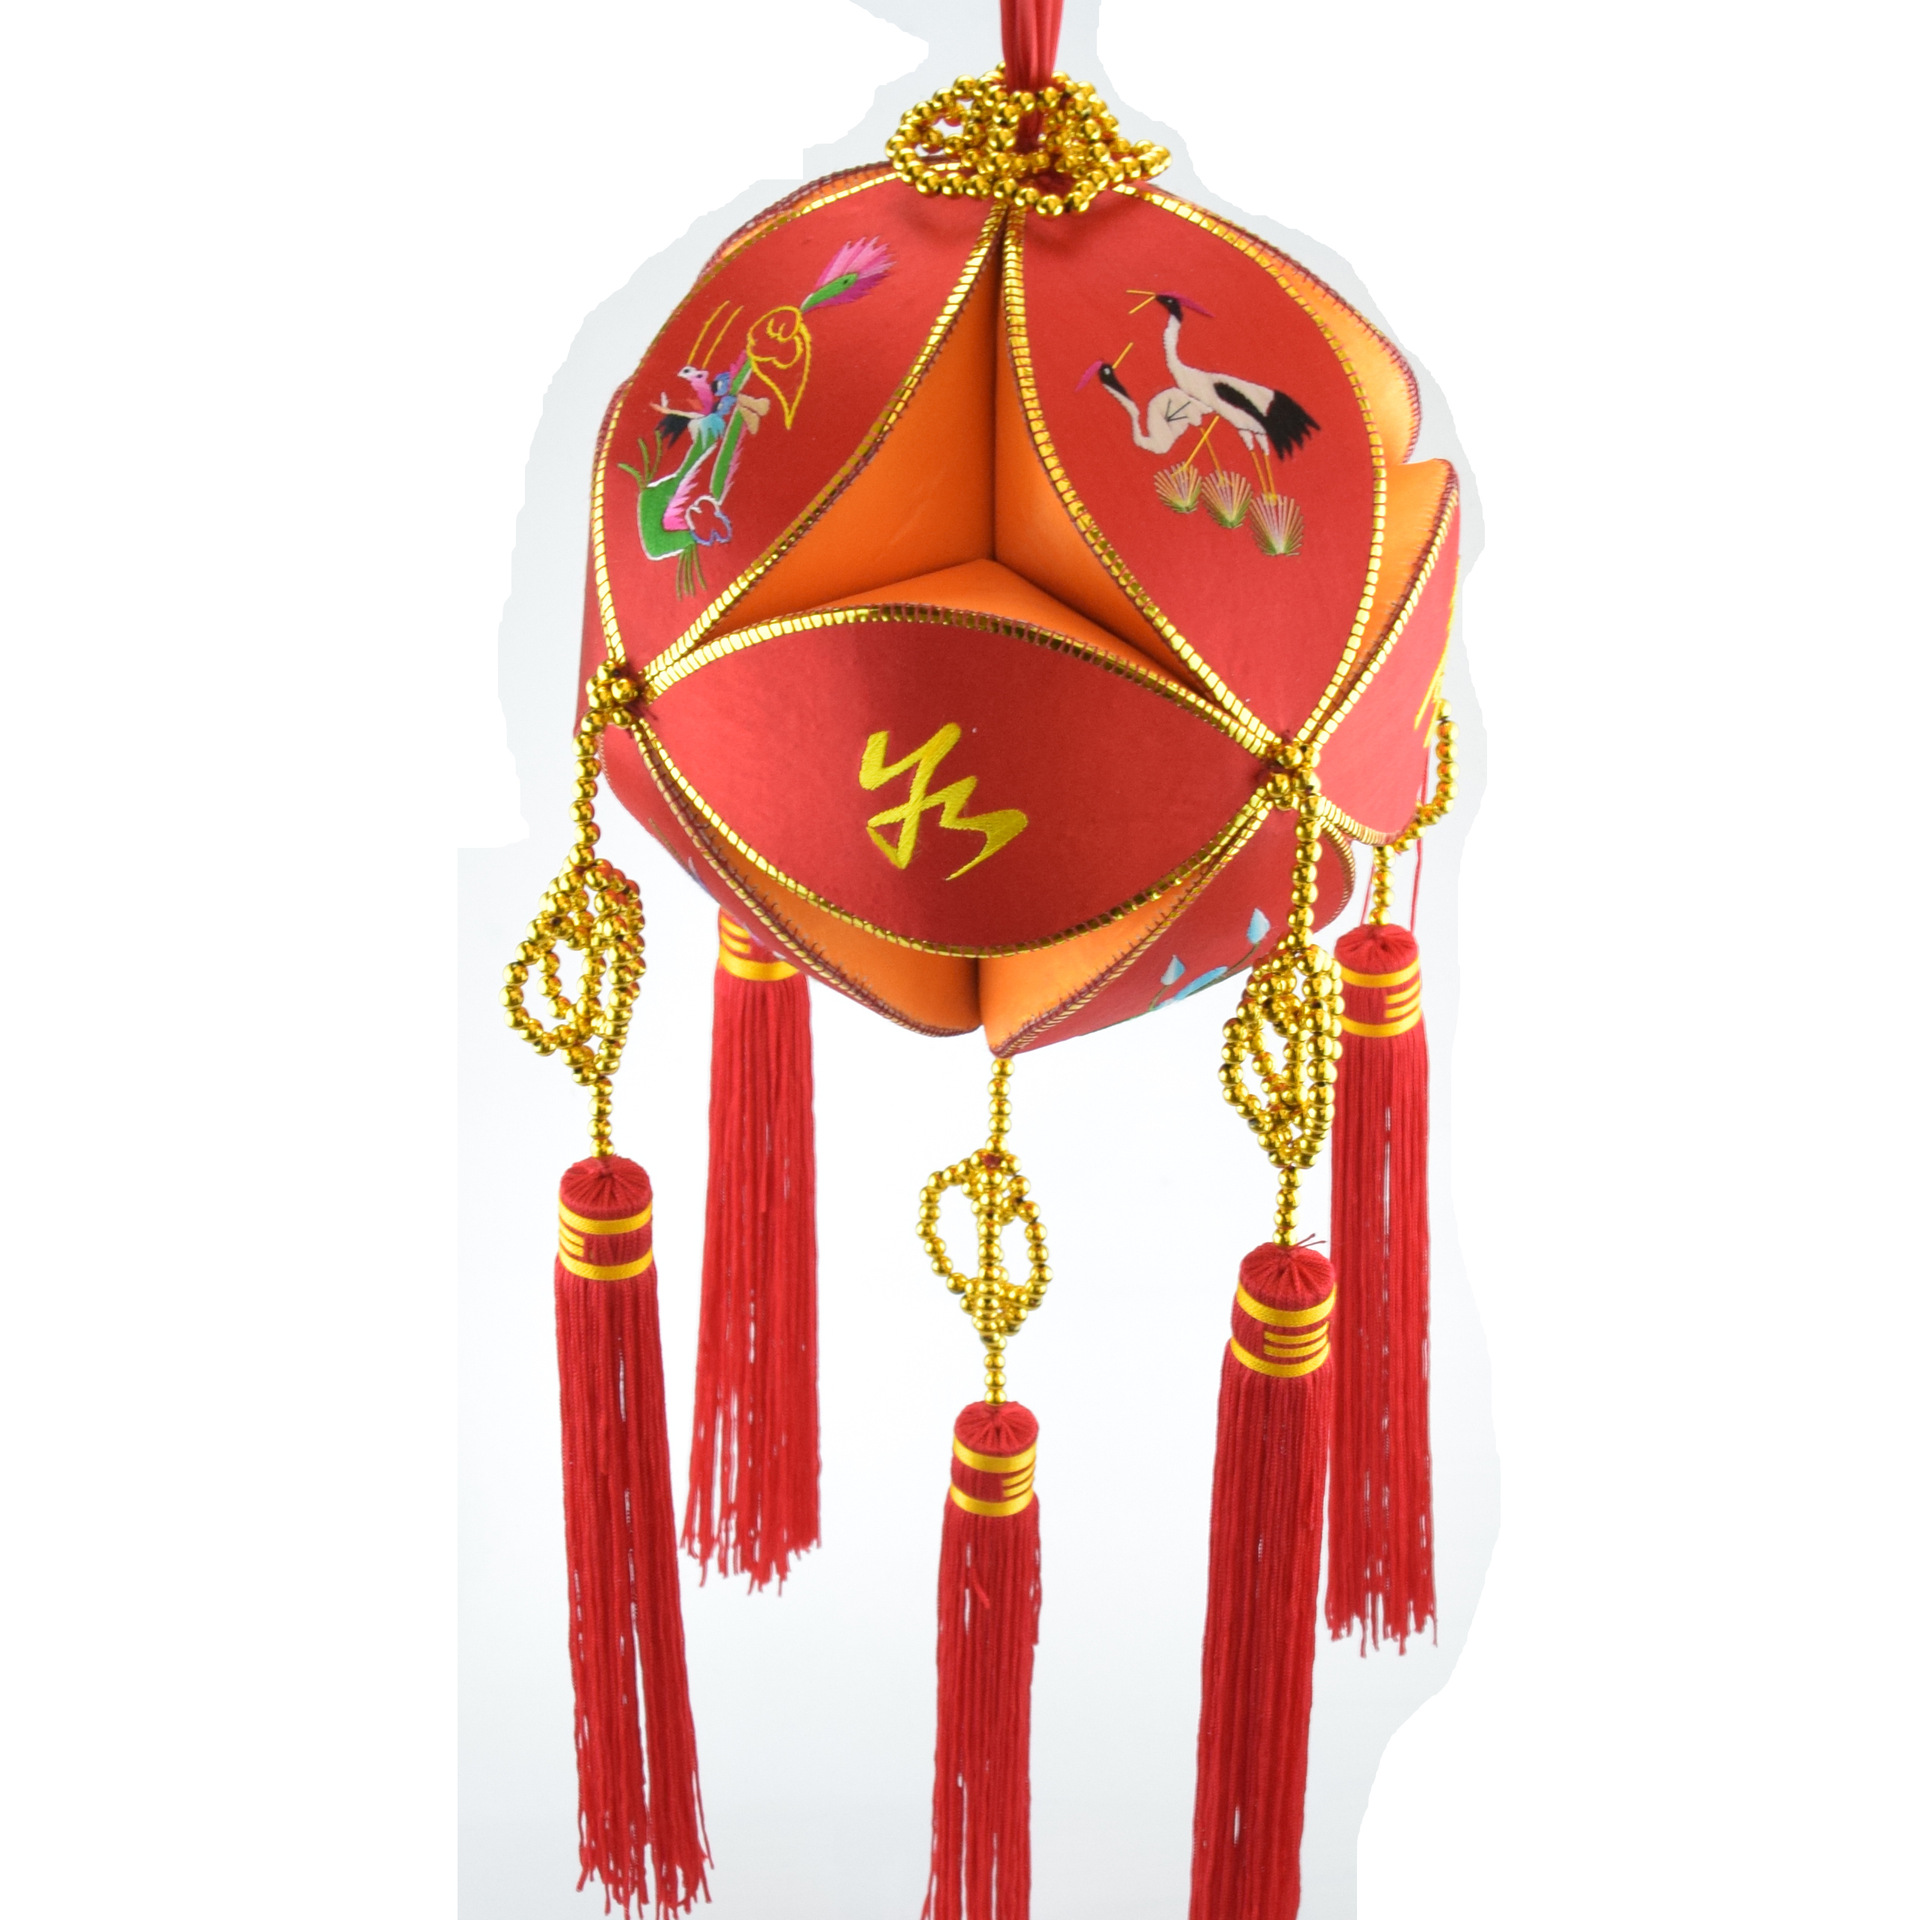xiuqiu: (570, 158, 1445, 1058)
